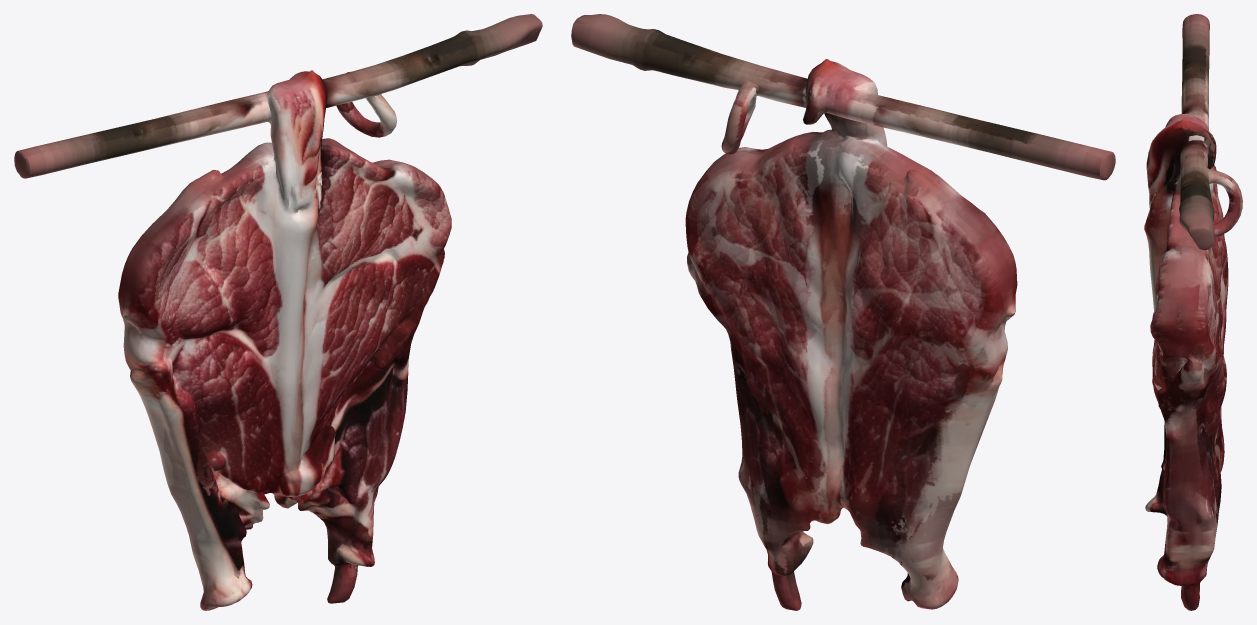
File: beef-half-carcass.glb
3 renders of one model, left to right at view 1: azimuth 30°, elevation 25°; view 2: azimuth 150°, elevation 25°; view 3: azimuth 270°, elevation 25°, orthographic. The views are drawn at different scales.
Parts seen in each view (by area): view 1: cowninja-beef-half-carcass; view 2: cowninja-beef-half-carcass; view 3: cowninja-beef-half-carcass.
Boxes of the visible parts, x1,y1,x2,y2 form: cowninja-beef-half-carcass: (14, 14, 542, 610); cowninja-beef-half-carcass: (571, 14, 1115, 610); cowninja-beef-half-carcass: (1144, 14, 1242, 610).
Bounding box in the file's own units: 2.4 × 2.4 × 0.4505.
1 material, 1 textured.
